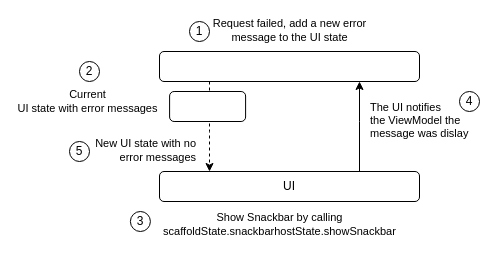
The diagram is 497 pixels wide and 254 high, and some of its shapes have lost their labels. Here are the shapes that lost their labels. From the top down, the box of each, then its label:
(158, 50, 420, 82): ViewModel
(169, 90, 246, 122): UI state
